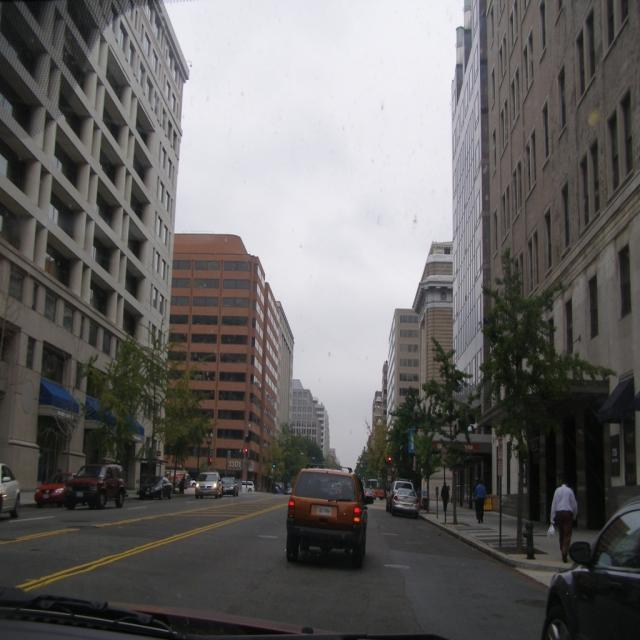car: (287, 459, 369, 565), (60, 459, 128, 504), (384, 474, 419, 514), (191, 462, 223, 492), (223, 473, 237, 497)
